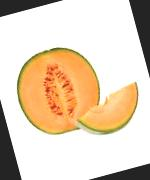Melon Ripe: (6, 38, 109, 143), (69, 80, 148, 142)
